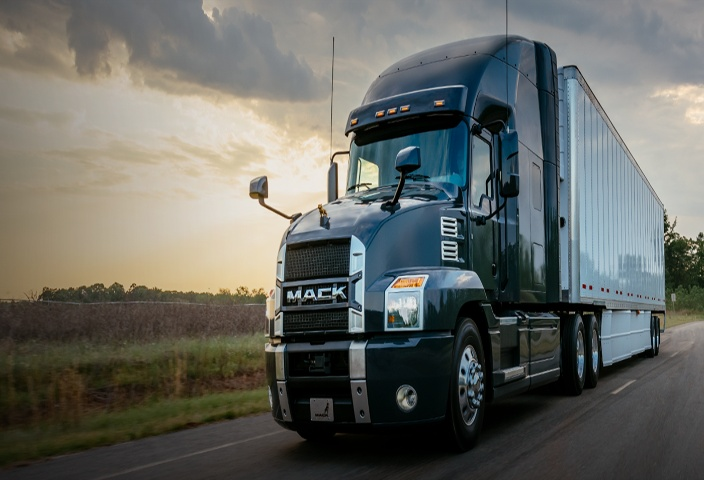truck: (232, 18, 675, 452)
